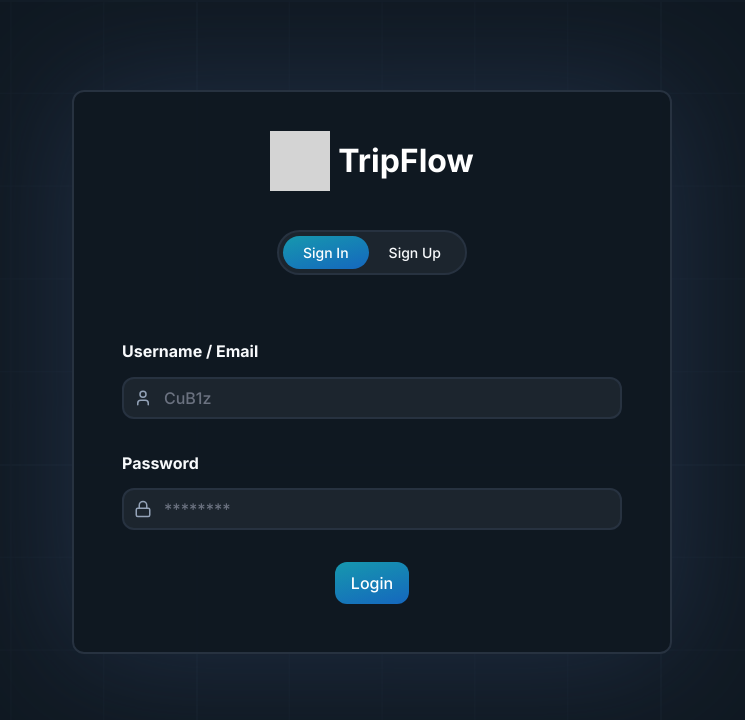
it: Login Page Validation › shows validation error for empty username
Click the button "Login": x=372, y=583 [335,562,409,604]
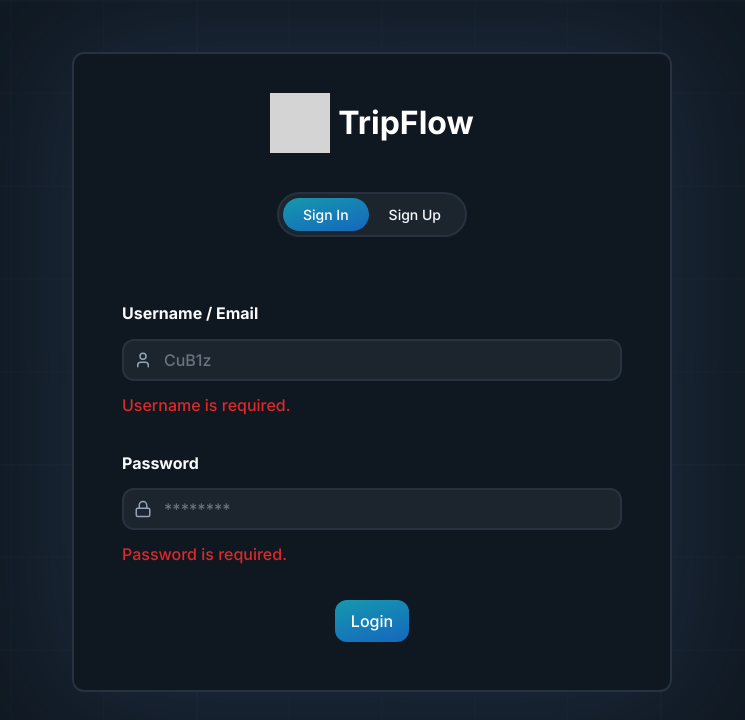
Expected: the text "Username is required." is shown, [122,395,291,415]
